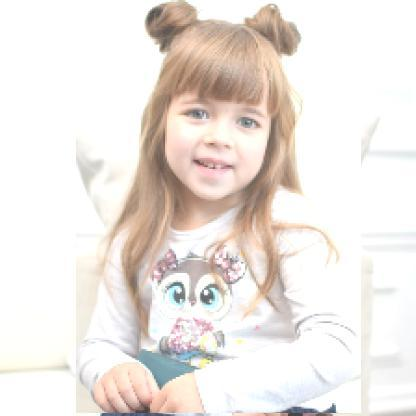child: (77, 1, 363, 415)
